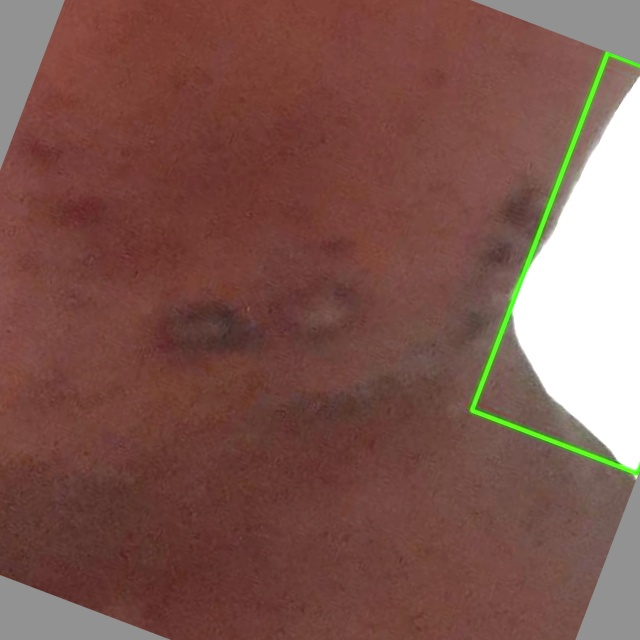Contact Dermatitis: (471, 52, 639, 473)
